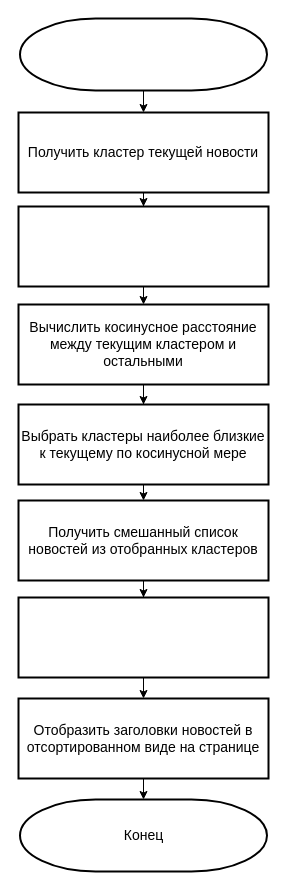
This 286x889 diagram has some shape labels left out. Each missing label, with the centre of its shape:
"Начало" belongs at point 143,54.
"Отсортировать новости по убыванию даты публикации" belongs at point 143,637.
"Получить центр каждого кластера" belongs at point 143,246.
